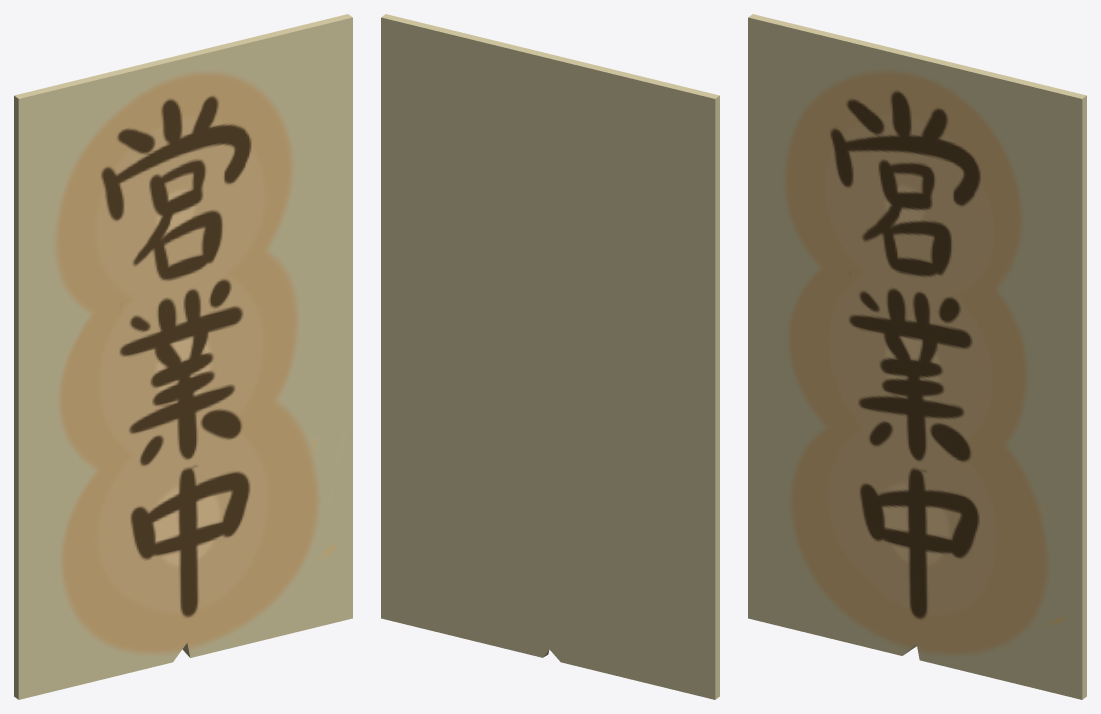
Rendered from Poster_Open.gltf.
3 renders of one model, left to right at view 1: azimuth 30°, elevation 25°; view 2: azimuth 150°, elevation 25°; view 3: azimuth 330°, elevation 25°, orthographic.
Visible parts, largest first — view 1: Poster_Open; view 2: Poster_Open; view 3: Poster_Open.
Boxes of the visible parts, x1,y1,x2,y2 form: Poster_Open: (14, 14, 352, 699); Poster_Open: (381, 14, 719, 699); Poster_Open: (748, 14, 1086, 699).
Size of the model in its own units: 0.493 by 0.8474 by 0.0121.
Materials: 1 (1 with a texture image).
